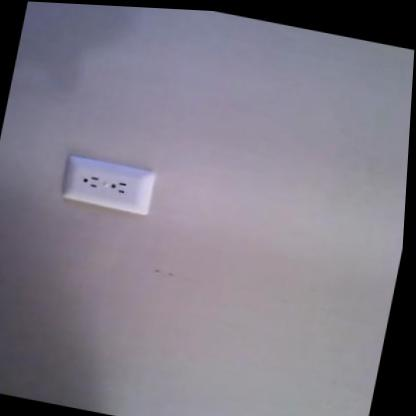OUTLET: (60, 153, 160, 216)
